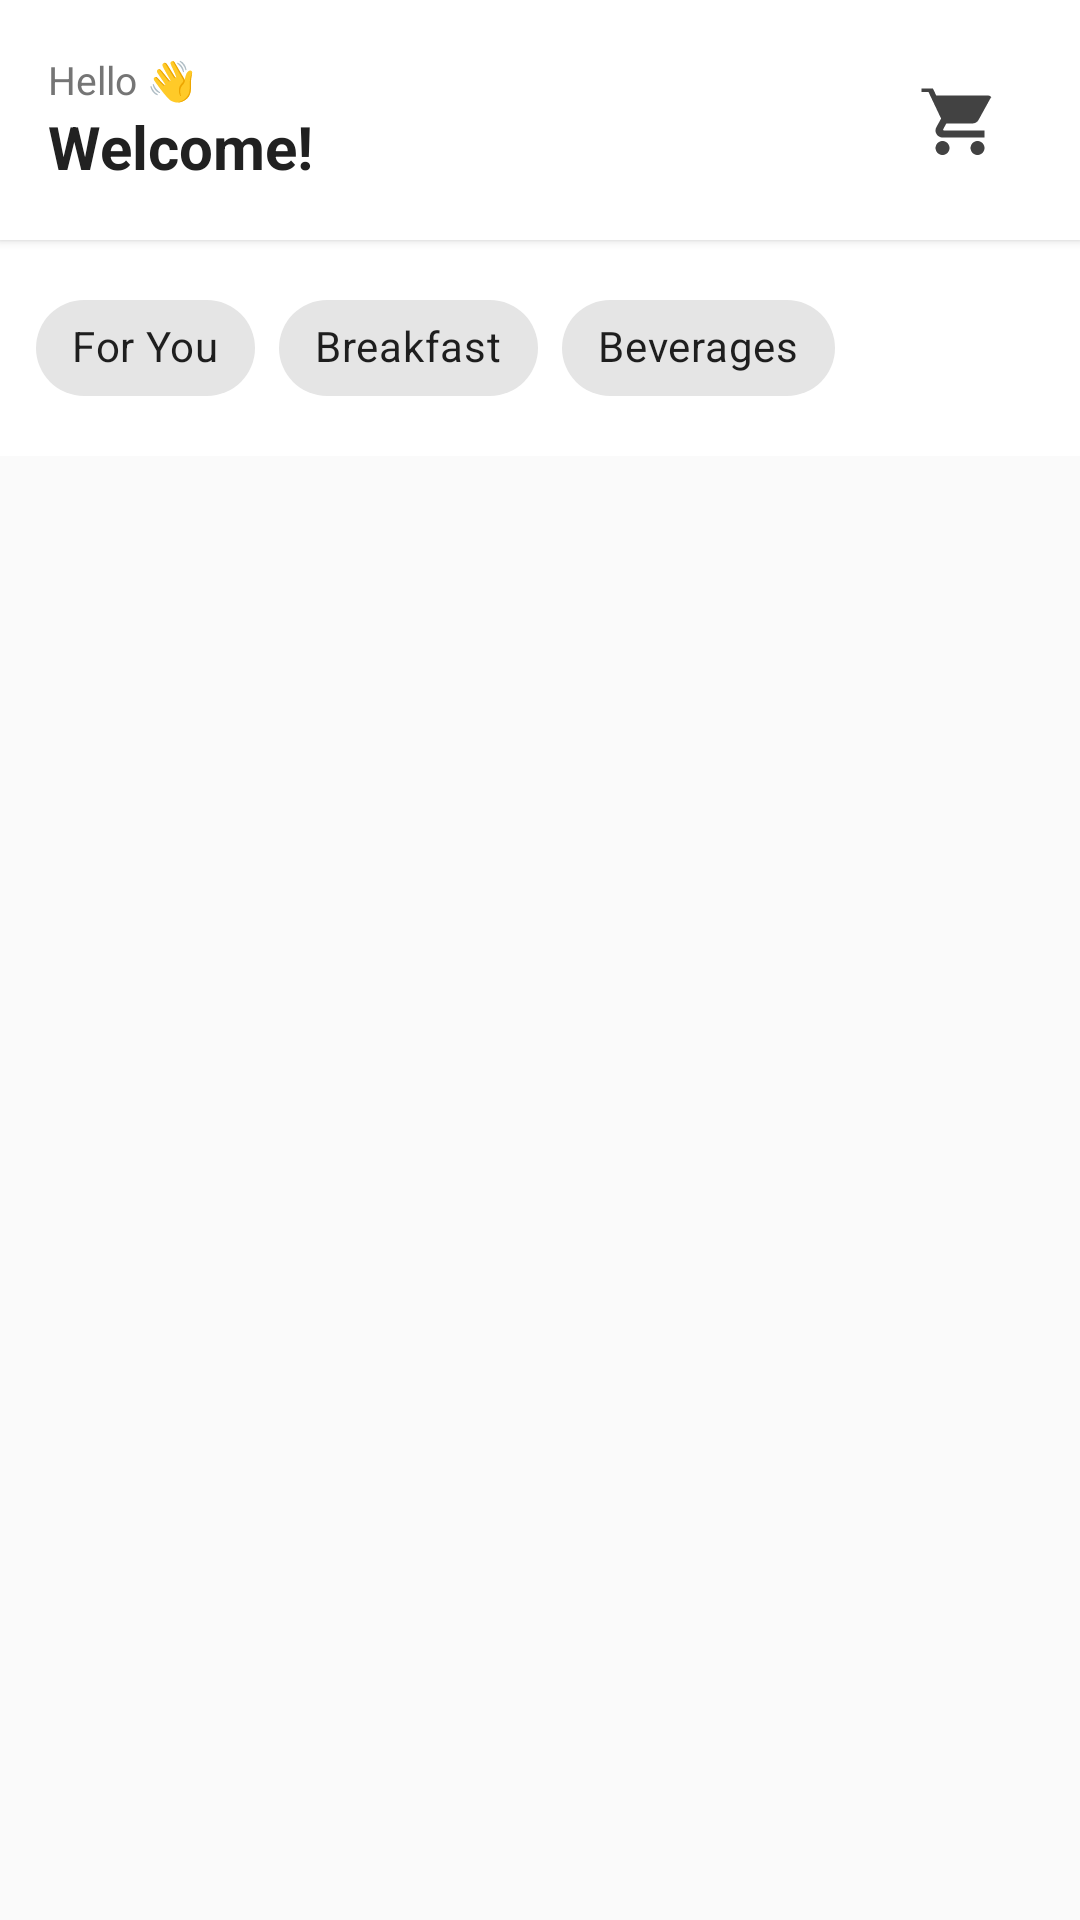

Icons on this 1080px x 1920px Android screen, each with the point to tap as point (x, y):
Cart: point (956, 121)
